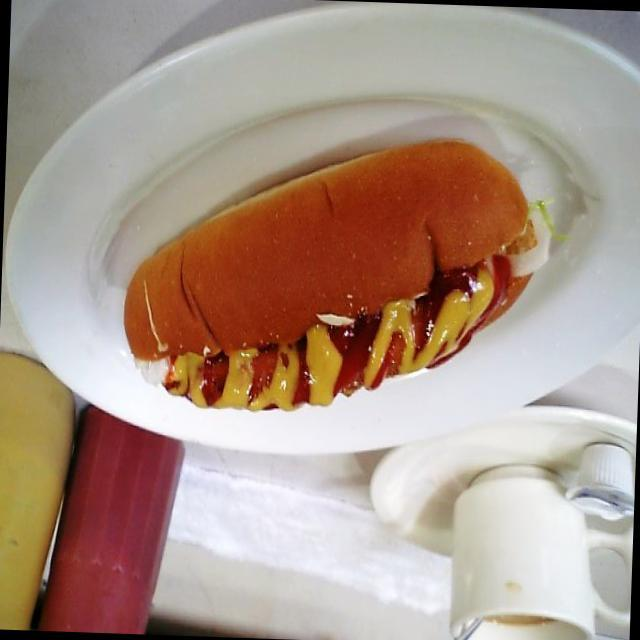Hot Dog: (113, 135, 541, 435)
